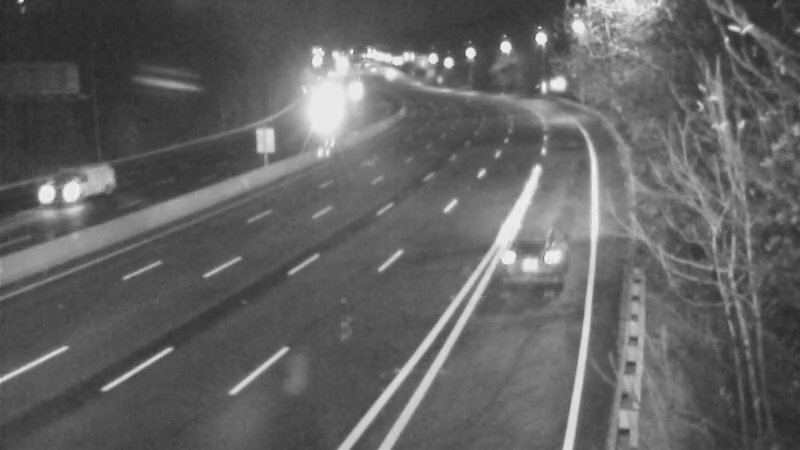vehicle: (494, 214, 574, 294), (25, 151, 105, 231), (362, 48, 412, 98), (299, 95, 349, 145)
